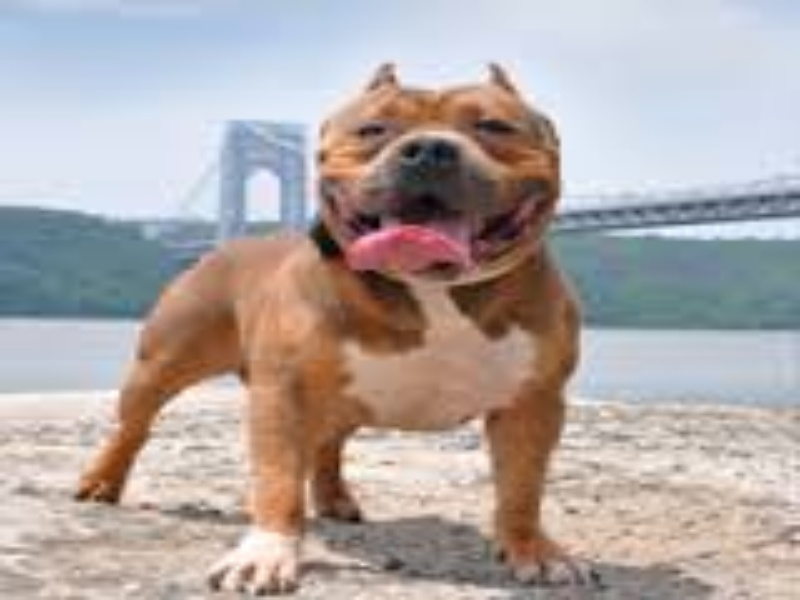dog: (81, 53, 617, 591)
